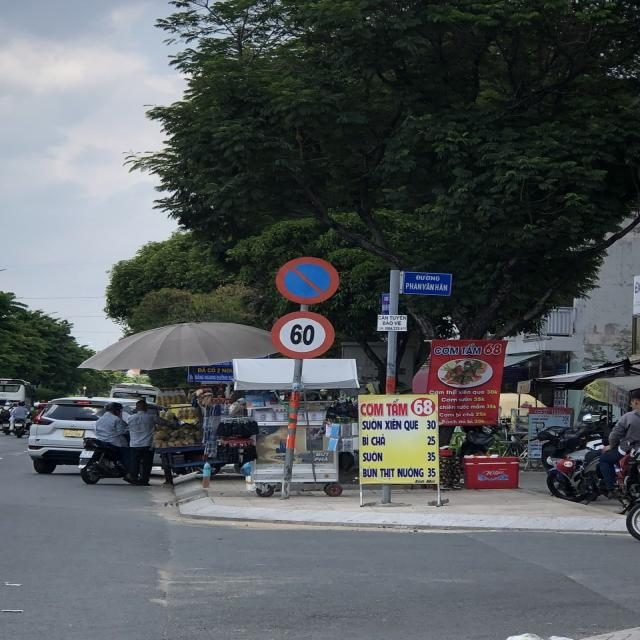Bien bao cam do xe: (270, 253, 349, 306)
Bien bao toc do toi da cho phep: (269, 308, 340, 360)
